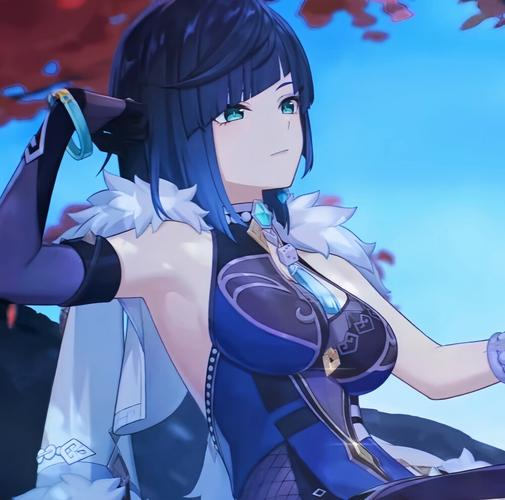夜兰: (2, 6, 505, 500)
